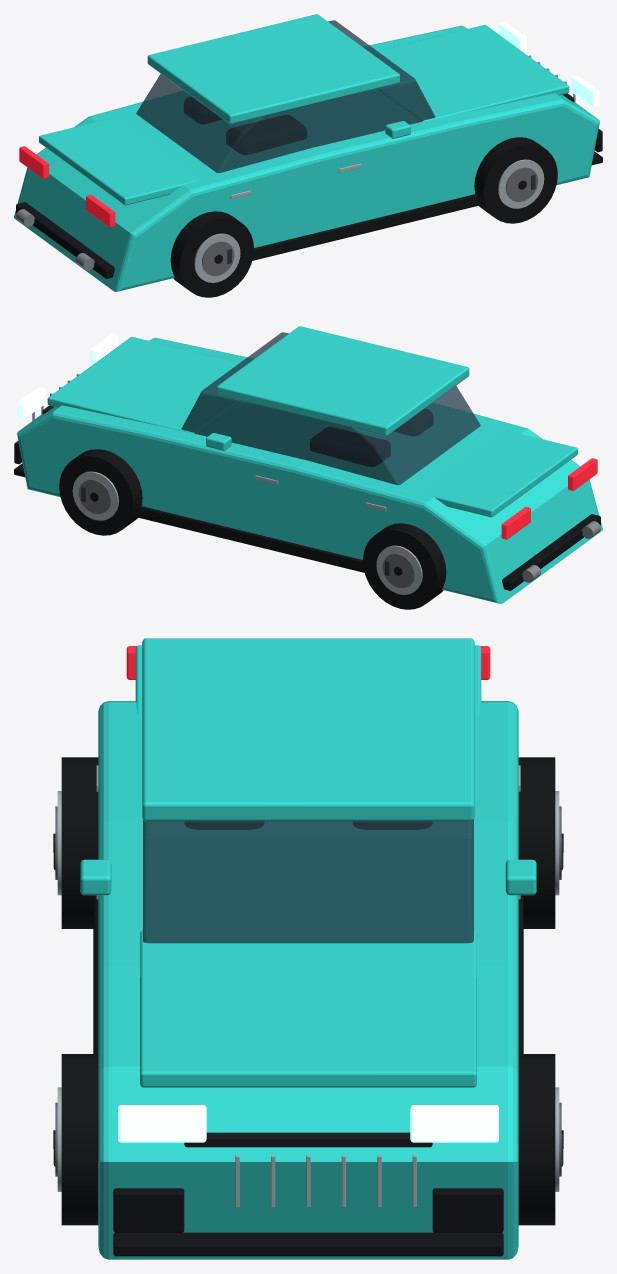
Rendered from ford_crown_victoria.glb.
3 renders of one model, top to bottom at view 1: azimuth 30°, elevation 25°; view 2: azimuth 150°, elevation 25°; view 3: azimuth 270°, elevation 25°, orthographic. The views are drawn at different scales.
Parts seen in each view (by area): view 1: sculpted_body, roof, glasshouse, hood_center, rear_deck, rear_right_wheel_tire, front_right_wheel_tire, side_skirt_1, seat_1, rear_diffuser, front_right_wheel_rim, rear_right_wheel_rim (+7 smaller); view 2: sculpted_body, roof, glasshouse, hood_center, rear_deck, rear_left_wheel_tire, front_left_wheel_tire, side_skirt_-1, seat_-1, rear_diffuser, front_left_wheel_rim, rear_left_wheel_rim (+7 smaller); view 3: sculpted_body, roof, hood_center, glasshouse, front_splitter, front_left_wheel_tire, front_right_wheel_tire, rear_left_wheel_tire, rear_right_wheel_tire, front_grille, headlight_left, headlight_right (+7 smaller).
Boxes of the visible parts, x1,y1,x2,y2 form: sculpted_body: [14, 25, 599, 291]; roof: [147, 14, 399, 124]; glasshouse: [136, 20, 435, 173]; hood_center: [372, 25, 569, 121]; rear_deck: [39, 117, 200, 205]; rear_right_wheel_tire: [170, 211, 253, 297]; front_right_wheel_tire: [474, 137, 557, 223]; side_skirt_1: [252, 194, 480, 260]; seat_1: [226, 115, 306, 154]; rear_diffuser: [16, 202, 114, 278]; front_right_wheel_rim: [498, 159, 544, 208]; rear_right_wheel_rim: [194, 233, 240, 282]; sculpted_body: [17, 337, 602, 603]; roof: [217, 326, 469, 436]; glasshouse: [181, 332, 480, 485]; hood_center: [47, 337, 244, 433]; rear_deck: [416, 429, 577, 517]; rear_left_wheel_tire: [363, 523, 446, 609]; front_left_wheel_tire: [59, 449, 142, 535]; side_skirt_-1: [136, 506, 364, 572]; seat_-1: [310, 427, 390, 466]; rear_diffuser: [502, 514, 600, 590]; front_left_wheel_rim: [72, 471, 118, 520]; rear_left_wheel_rim: [376, 545, 422, 594]; sculpted_body: [98, 701, 518, 1259]; roof: [142, 638, 474, 821]; hood_center: [140, 930, 476, 1087]; glasshouse: [143, 820, 473, 943]; front_splitter: [113, 1232, 503, 1256]; front_left_wheel_tire: [518, 1054, 555, 1225]; front_right_wheel_tire: [61, 1054, 98, 1225]; rear_left_wheel_tire: [518, 757, 555, 928]; rear_right_wheel_tire: [61, 757, 98, 928]; front_grille: [184, 1132, 432, 1147]; headlight_left: [410, 1105, 498, 1142]; headlight_right: [118, 1105, 206, 1142].
Size of the model in its own units: 4.92 by 1.47 by 2.14.
